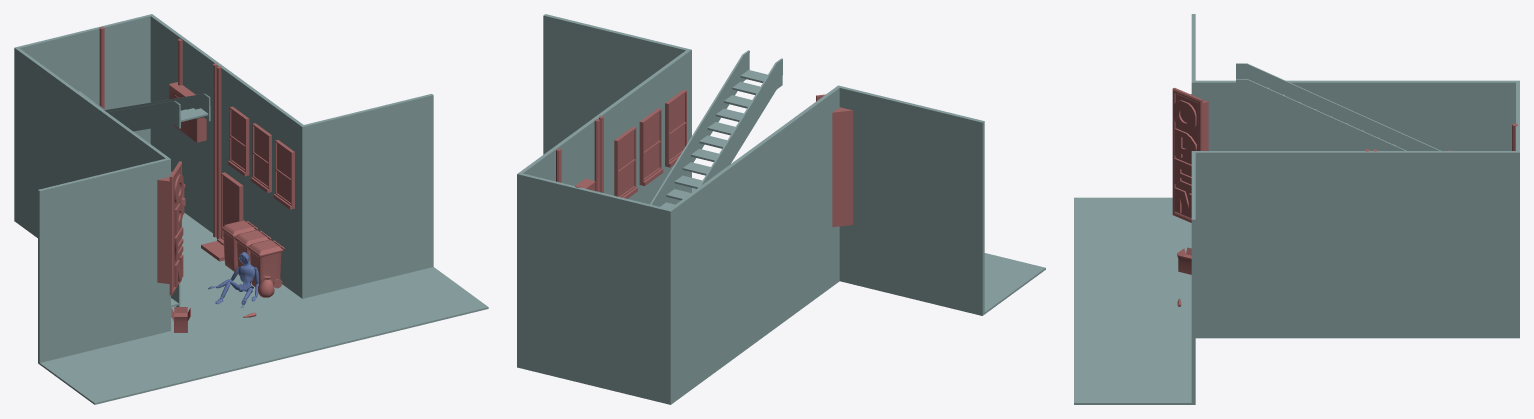
File: BackAlleyComplete.fbx
3 renders of one model, left to right at view 1: azimuth 30°, elevation 25°; view 2: azimuth 150°, elevation 25°; view 3: azimuth 270°, elevation 25°, orthographic. The views are drawn at different scales.
Visible parts, largest first — view 1: Walls, Floor, Poster2, Poster1, Stairs, Sign, Door, Window2, Window1, Window3, WheelieBin3, Robot (+7 smaller); view 2: Walls, Stairs, Floor, Sign, Window3, Window2, Window1; view 3: Walls, Floor, Stairs, Sign, o, p, e, n.
Part boxes in pixels (left/top/right/bottom): Walls: left=14, top=14, right=433, bottom=362; Floor: left=14, top=213, right=488, bottom=404; Poster2: left=323, top=193, right=416, bottom=259; Poster1: left=72, top=268, right=145, bottom=326; Stairs: left=79, top=91, right=210, bottom=306; Sign: left=157, top=161, right=181, bottom=295; Door: left=201, top=172, right=243, bottom=261; Window2: left=228, top=106, right=249, bottom=176; Window1: left=273, top=140, right=294, bottom=209; Window3: left=250, top=123, right=271, bottom=192; WheelieBin3: left=247, top=239, right=284, bottom=288; Robot: left=208, top=252, right=258, bottom=307; Walls: left=517, top=14, right=984, bottom=402; Stairs: left=650, top=50, right=782, bottom=208; Floor: left=517, top=188, right=1045, bottom=404; Sign: left=816, top=94, right=852, bottom=227; Window3: left=639, top=108, right=663, bottom=185; Window2: left=614, top=127, right=637, bottom=198; Window1: left=665, top=89, right=686, bottom=167; Walls: left=1191, top=14, right=1519, bottom=402; Floor: left=1074, top=197, right=1519, bottom=404; Stairs: left=1236, top=63, right=1440, bottom=150; Sign: left=1172, top=87, right=1208, bottom=222; o: left=1173, top=100, right=1196, bottom=131; p: left=1174, top=128, right=1196, bottom=157; e: left=1174, top=158, right=1191, bottom=190; n: left=1174, top=187, right=1191, bottom=217.
Size of the model in its own units: 12 by 5.98 by 11.
